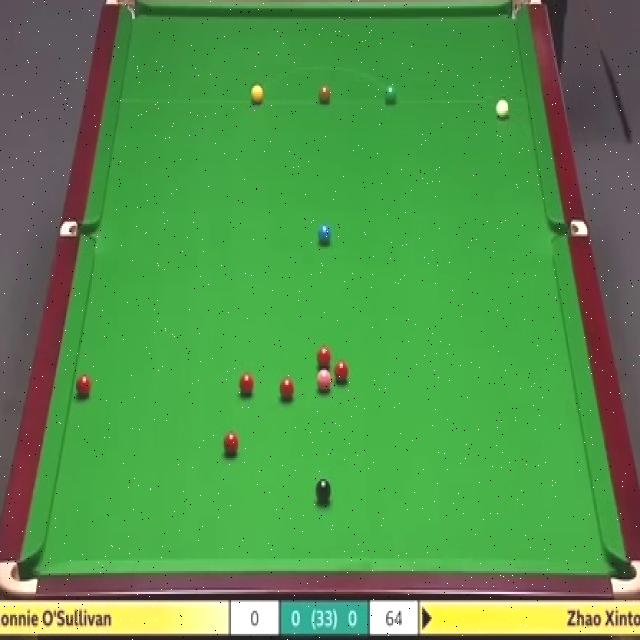black-ball: (316, 477, 332, 505)
blue-ball: (317, 222, 332, 246)
brown-ball: (318, 85, 331, 105)
green-ball: (384, 83, 397, 107)
pink-ball: (318, 368, 332, 392)
red-ball: (279, 376, 296, 405), (334, 360, 352, 387), (239, 371, 256, 399), (222, 431, 240, 456), (76, 372, 92, 400), (317, 344, 332, 370)
white-ball: (494, 95, 511, 123)
yellow-ball: (251, 82, 263, 103)
